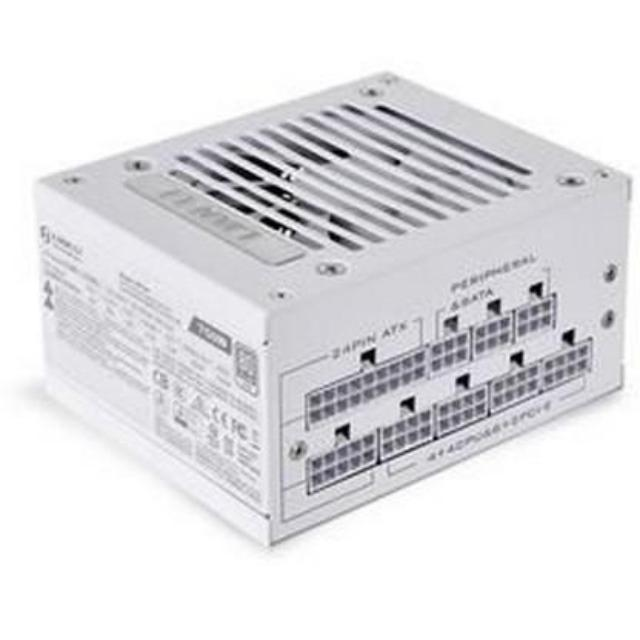PSU: (8, 64, 640, 550)
